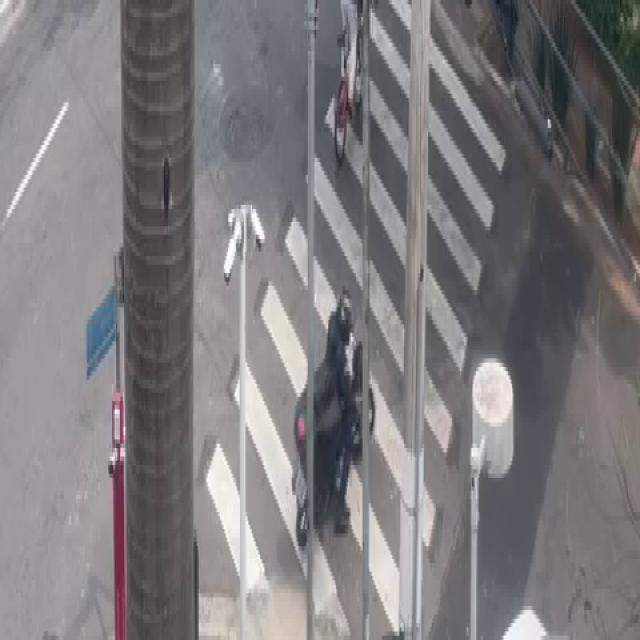bicycle: (334, 0, 372, 154)
motorbike: (282, 278, 376, 570)
